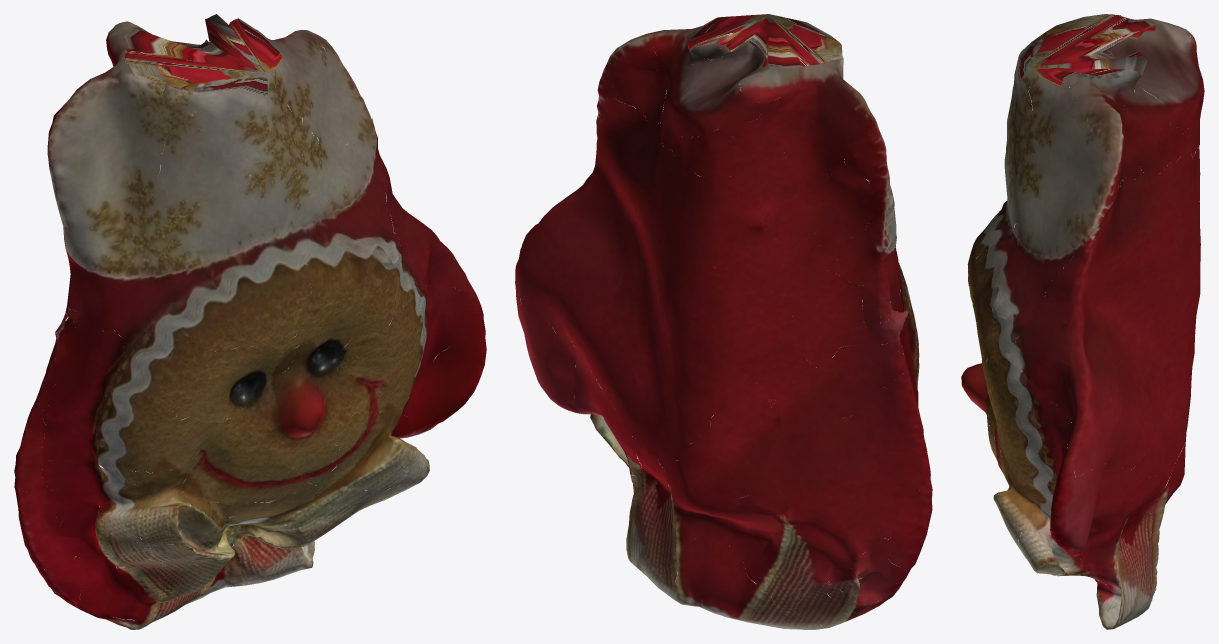
Rendered from Galletafinal.glb.
The picture shows the model from 3 angles, left to right: view 1: azimuth 30°, elevation 25°; view 2: azimuth 150°, elevation 25°; view 3: azimuth 270°, elevation 25°; orthographic projection. The views are drawn at different scales.
Parts seen in each view (by area): view 1: Mesh_0; view 2: Mesh_0; view 3: Mesh_0.
Part boxes in pixels (x1=…): Mesh_0: x1=14, y1=14, x2=486, y2=629; Mesh_0: x1=515, y1=14, x2=932, y2=629; Mesh_0: x1=961, y1=14, x2=1204, y2=629.
Bounding box in the file's own units: 0.441 × 0.5508 × 0.2187.
1 material, 1 textured.
